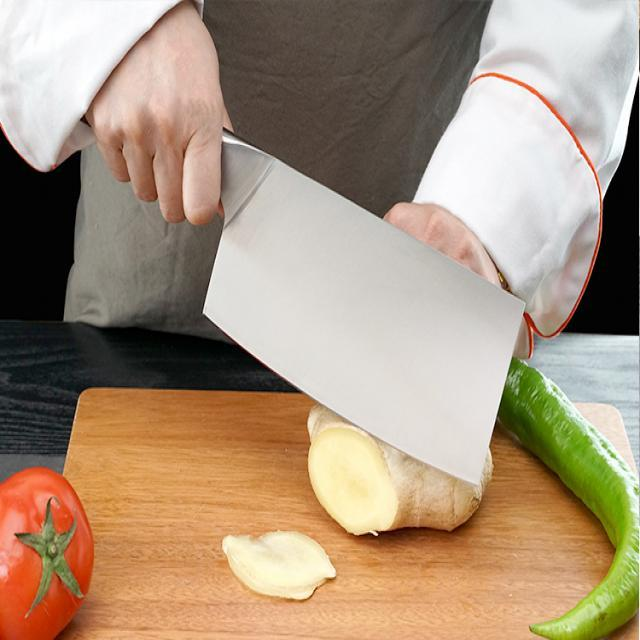cleaver: (210, 124, 526, 480)
